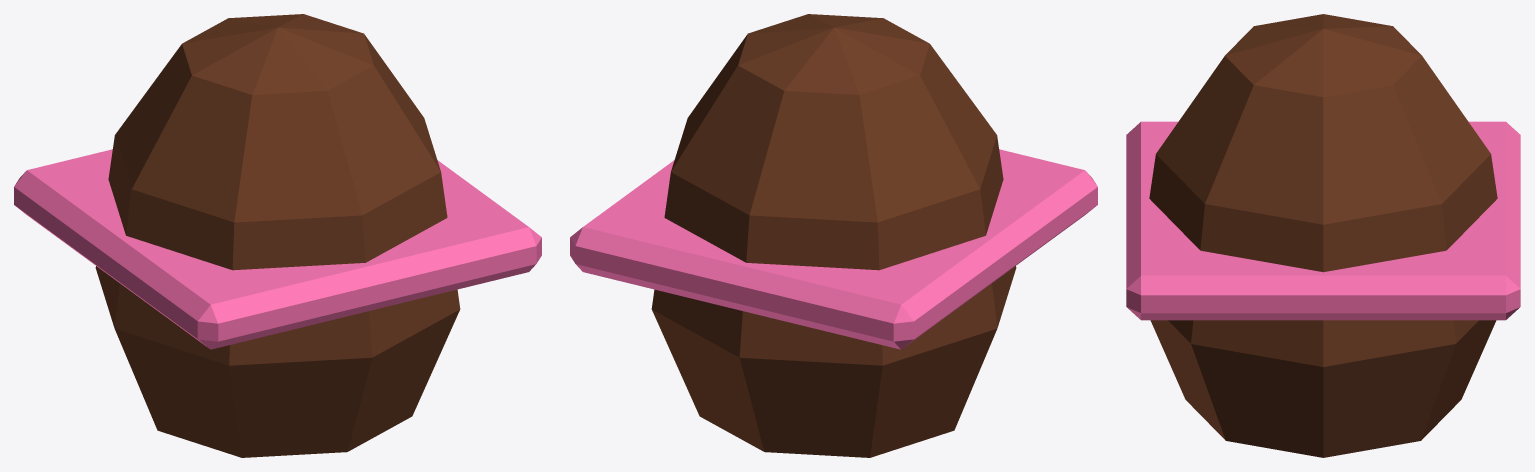
File: ChocolateEgg.fbx
3 views of the same model, side by side, from view 1: azimuth 30°, elevation 25°; view 2: azimuth 150°, elevation 25°; view 3: azimuth 270°, elevation 25° (orthographic).
Parts seen in each view (by area): view 1: ChocolateEgg; view 2: ChocolateEgg; view 3: ChocolateEgg.
Boxes of the visible parts, box(x1,y1,x2,y2) form: ChocolateEgg: box(14, 14, 541, 457); ChocolateEgg: box(570, 14, 1097, 457); ChocolateEgg: box(1126, 14, 1520, 457).
Size of the model in its own units: 0.8 by 0.88 by 0.8.
Materials: 1 (1 with a texture image).
